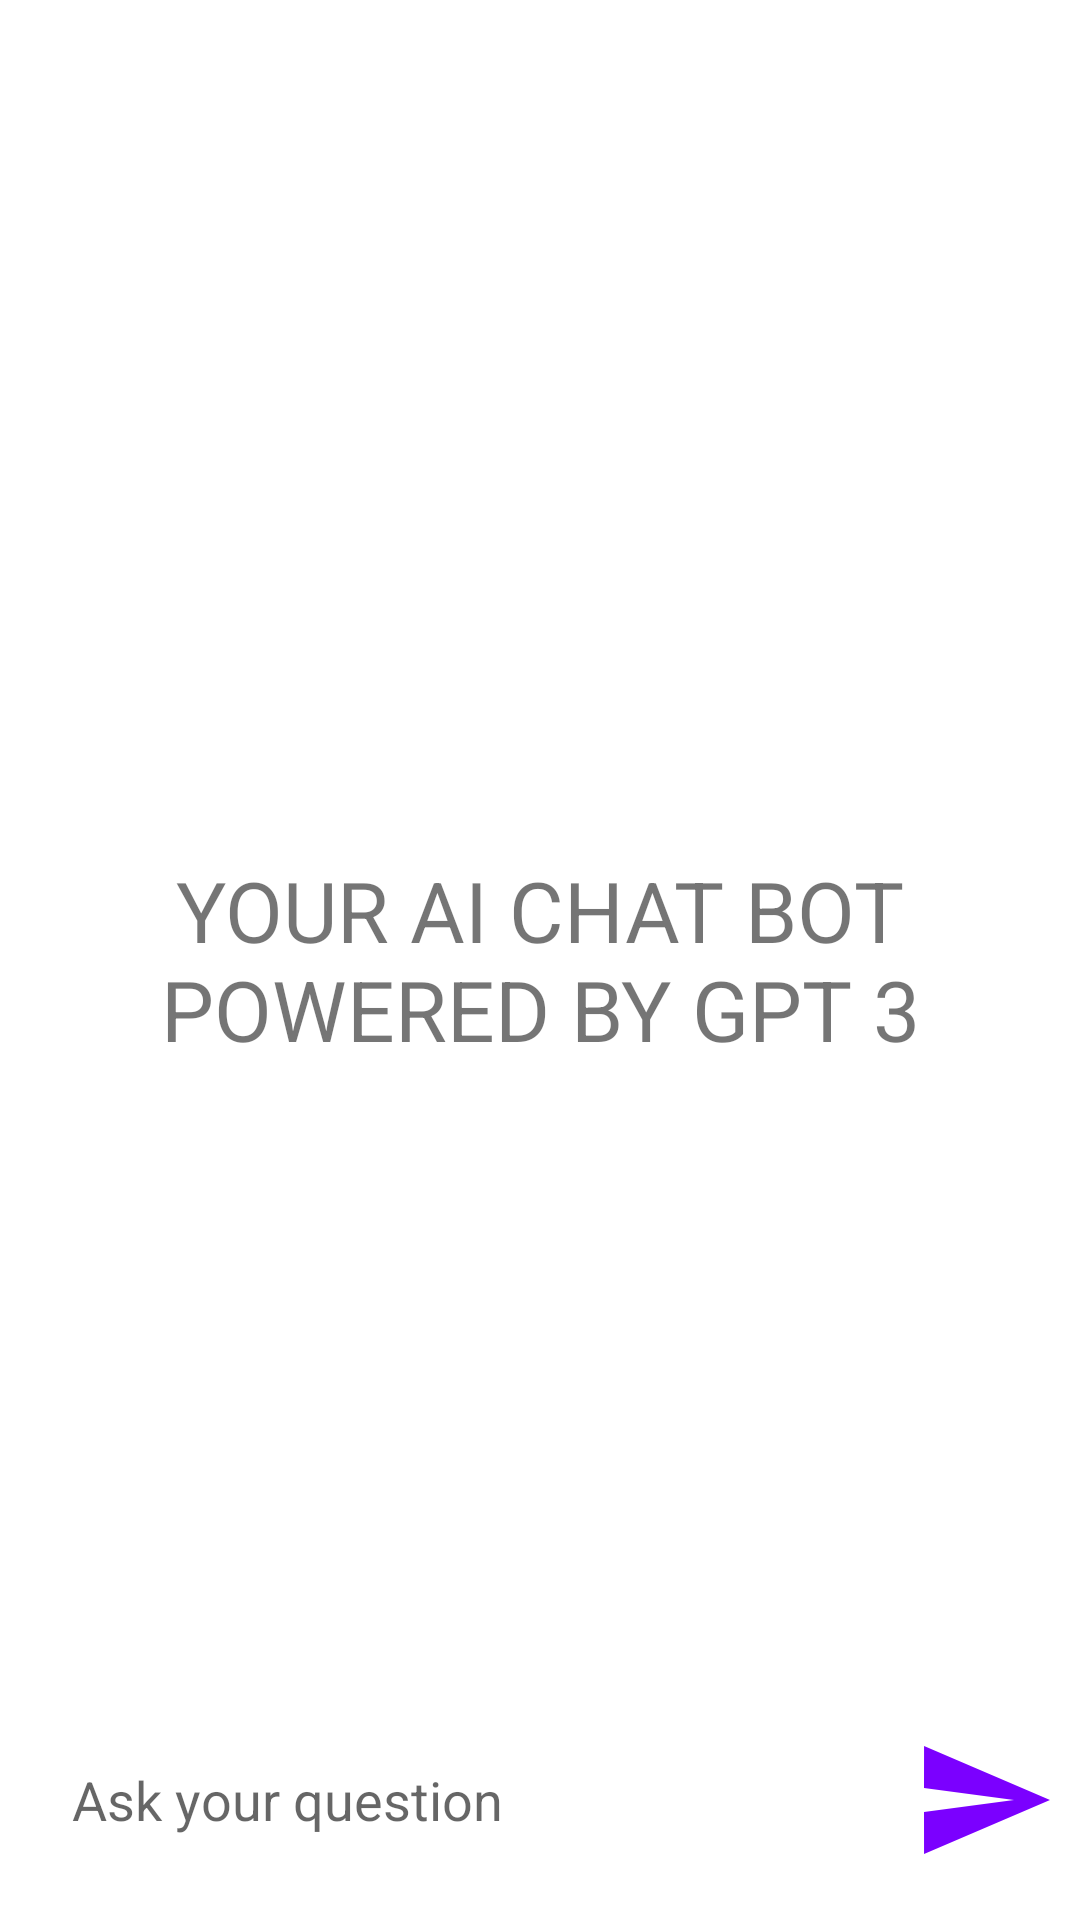

Where icons sit on this 1080px×1920px app screen, as box=[x1, y1, x2, y2]:
send: box=[924, 1746, 1050, 1854]
